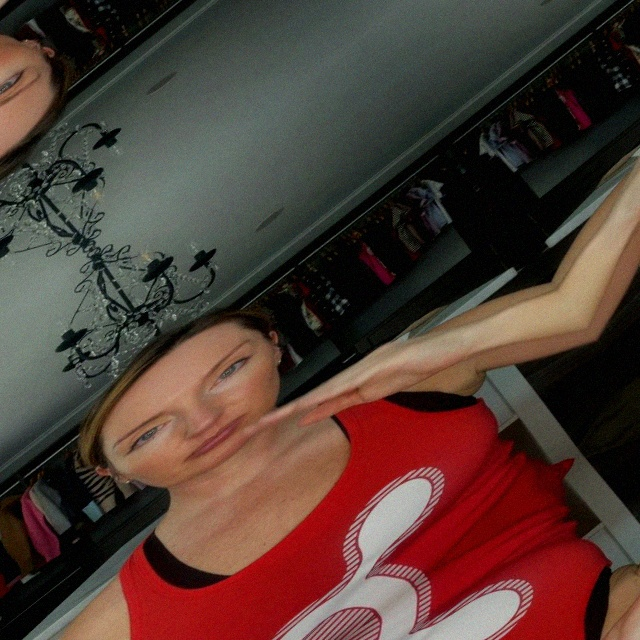Paper: (0, 0, 143, 58)
